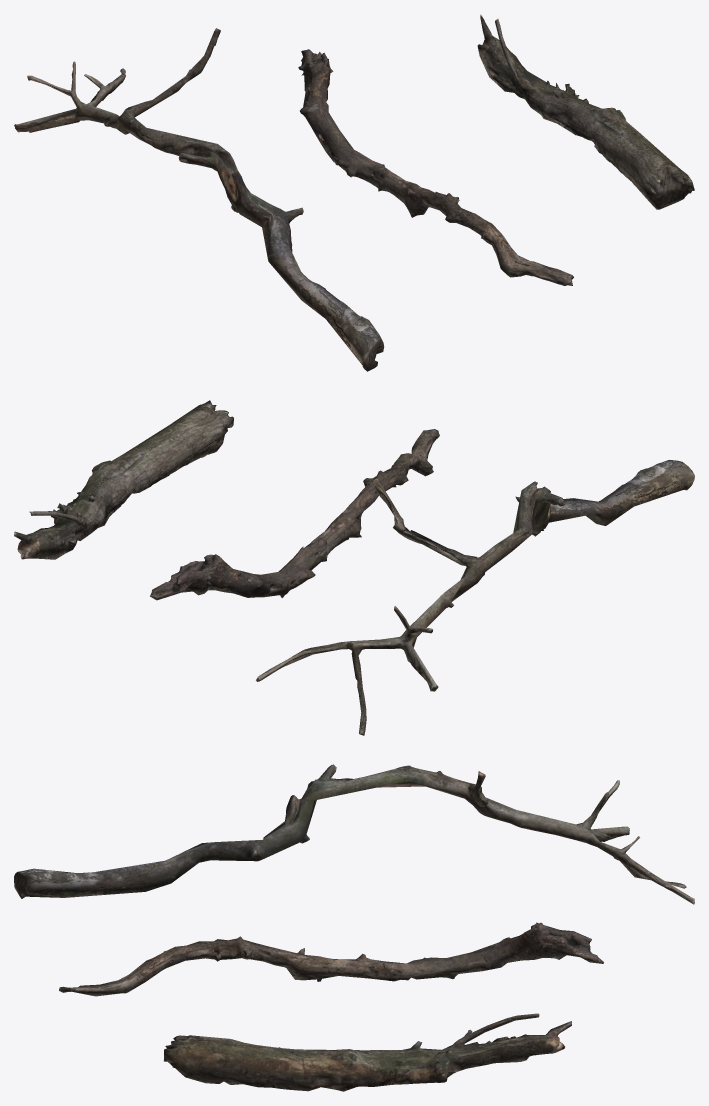
The model's file is dry_branches_medium_01.glb.
3 renders of one model, top to bottom at view 1: azimuth 30°, elevation 25°; view 2: azimuth 150°, elevation 25°; view 3: azimuth 270°, elevation 25°, orthographic. The views are drawn at different scales.
Parts seen in each view (by area): view 1: dry_branches_medium_01_a, dry_branches_medium_01_c, dry_branches_medium_01_b; view 2: dry_branches_medium_01_a, dry_branches_medium_01_c, dry_branches_medium_01_b; view 3: dry_branches_medium_01_a, dry_branches_medium_01_c, dry_branches_medium_01_b.
Part boxes in pixels (bbox=[...]): dry_branches_medium_01_a: bbox=[14, 28, 384, 371]; dry_branches_medium_01_c: bbox=[477, 14, 694, 209]; dry_branches_medium_01_b: bbox=[298, 49, 573, 285]; dry_branches_medium_01_a: bbox=[256, 460, 694, 735]; dry_branches_medium_01_c: bbox=[14, 400, 233, 559]; dry_branches_medium_01_b: bbox=[150, 429, 439, 600]; dry_branches_medium_01_a: bbox=[14, 764, 694, 904]; dry_branches_medium_01_c: bbox=[163, 1013, 571, 1091]; dry_branches_medium_01_b: bbox=[59, 922, 603, 996].
Bounding box in the file's own units: 1.06 × 0.3401 × 1.3.
1 material, 1 textured.
